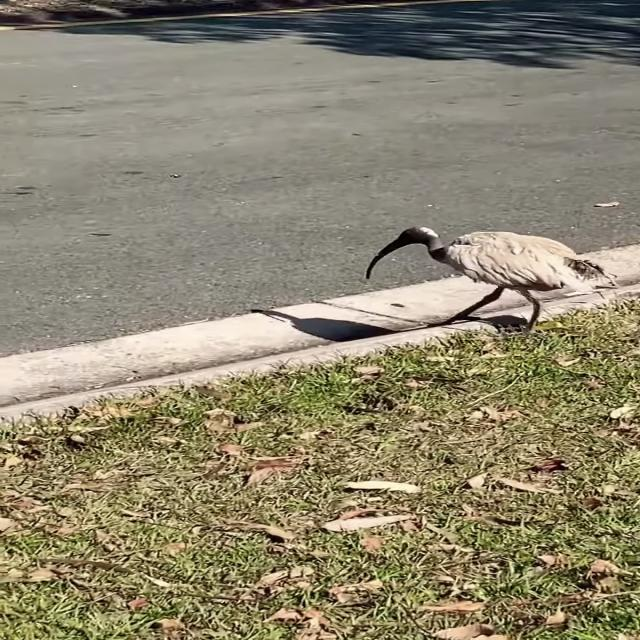Birds-Ibis: (359, 219, 620, 345)
